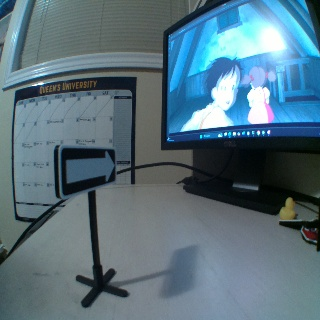sign_oneway_right: (52, 144, 115, 193)
